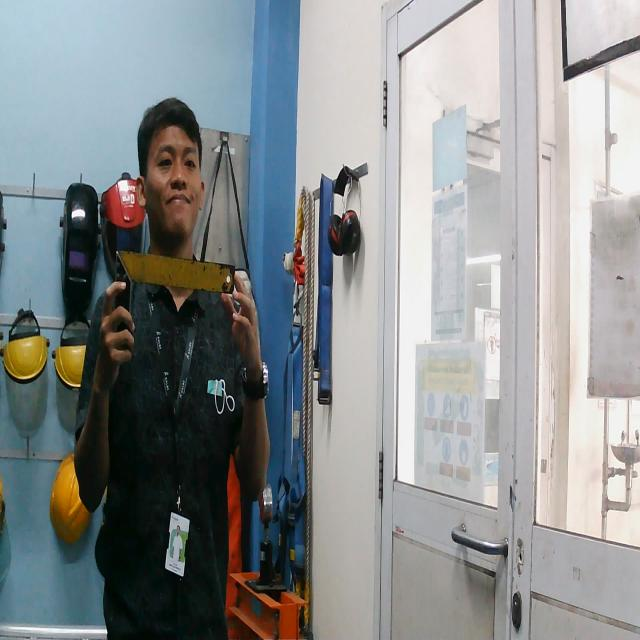penggaris_siku: (103, 240, 239, 363)
